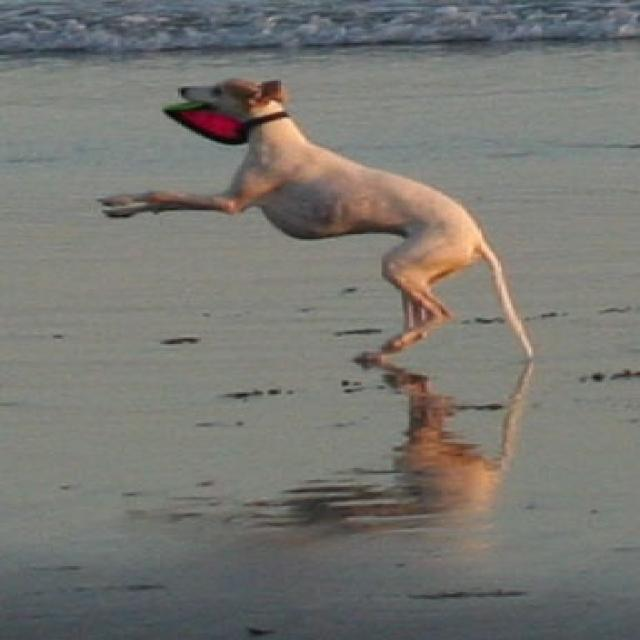dog: (93, 76, 536, 364)
